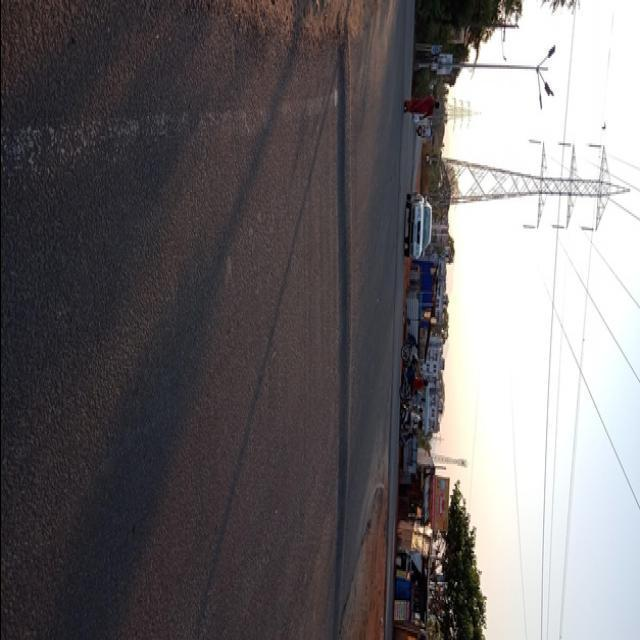speedbreaker: (328, 30, 354, 640)
